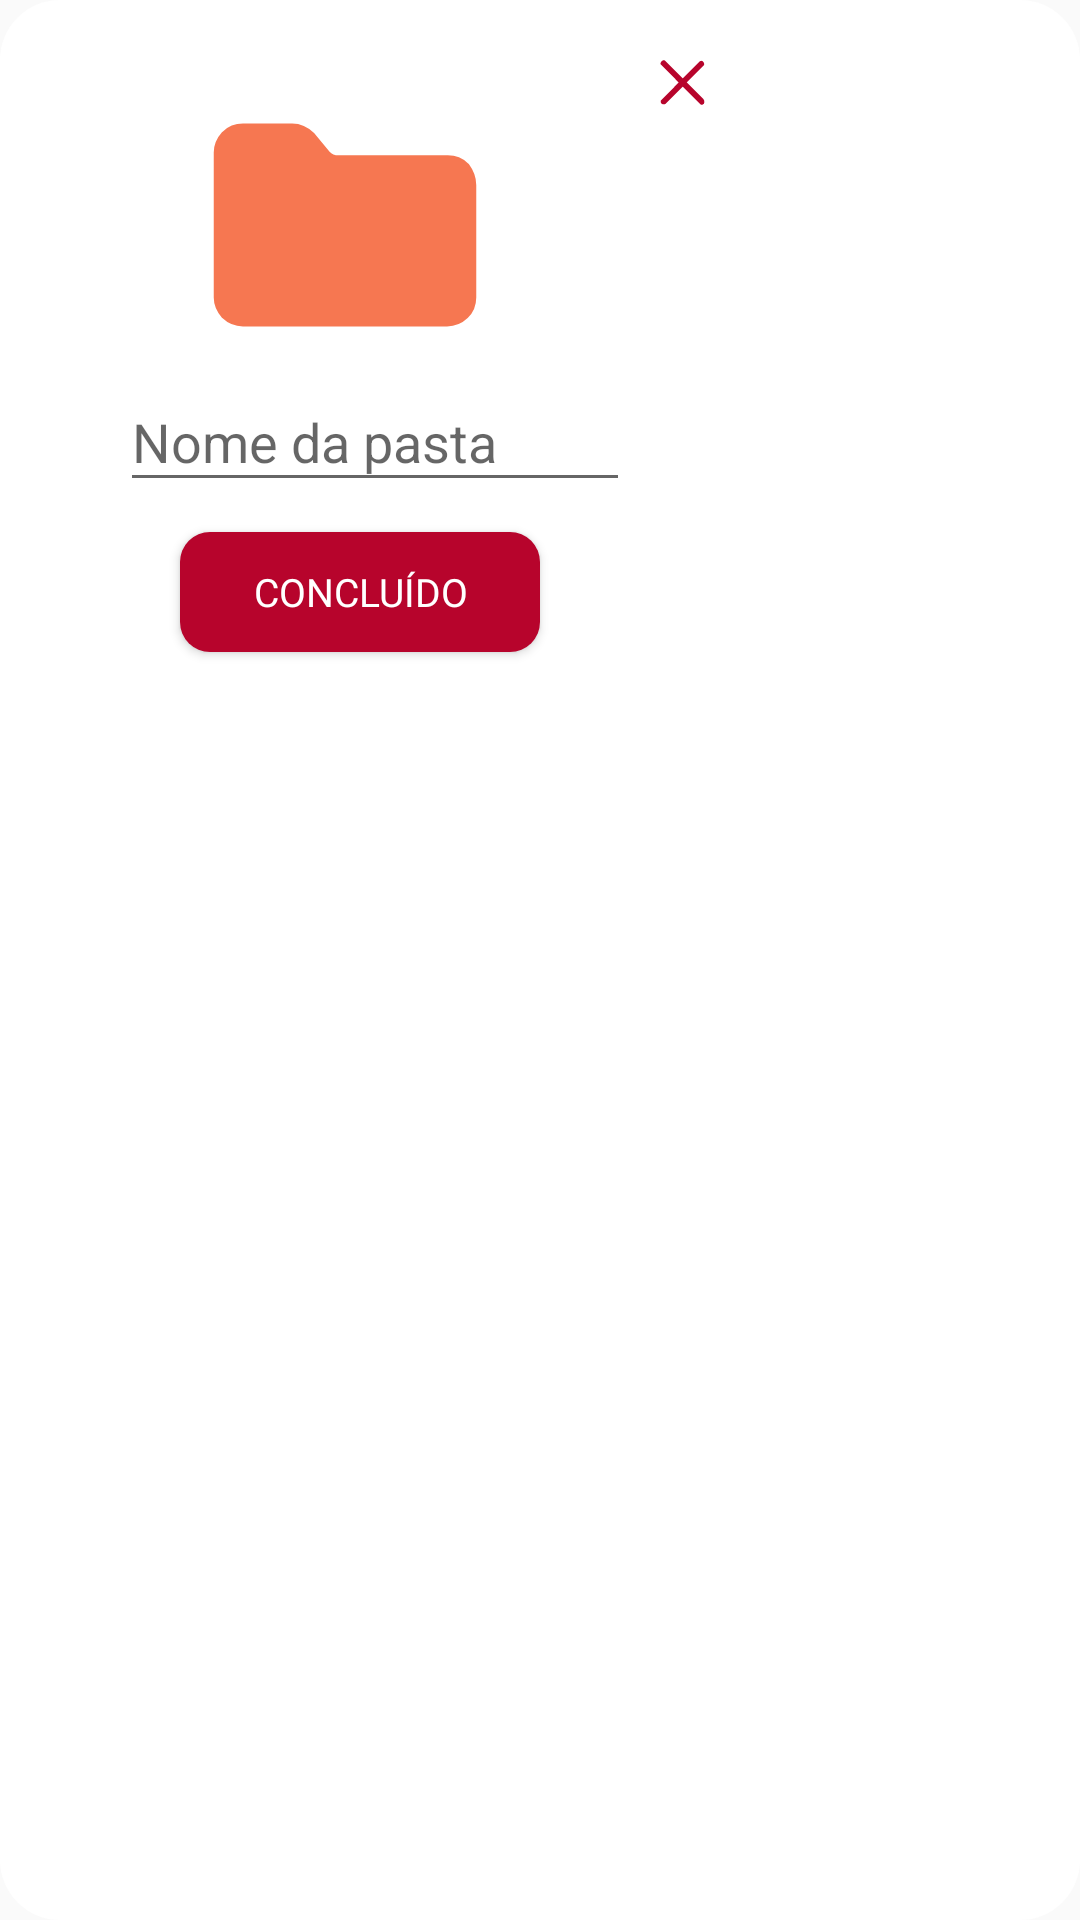

Icon bounding boxes for this 1080 × 1920 phone screenshot, format (x1, y1, x2, y2):
folder: (213, 123, 477, 327)
